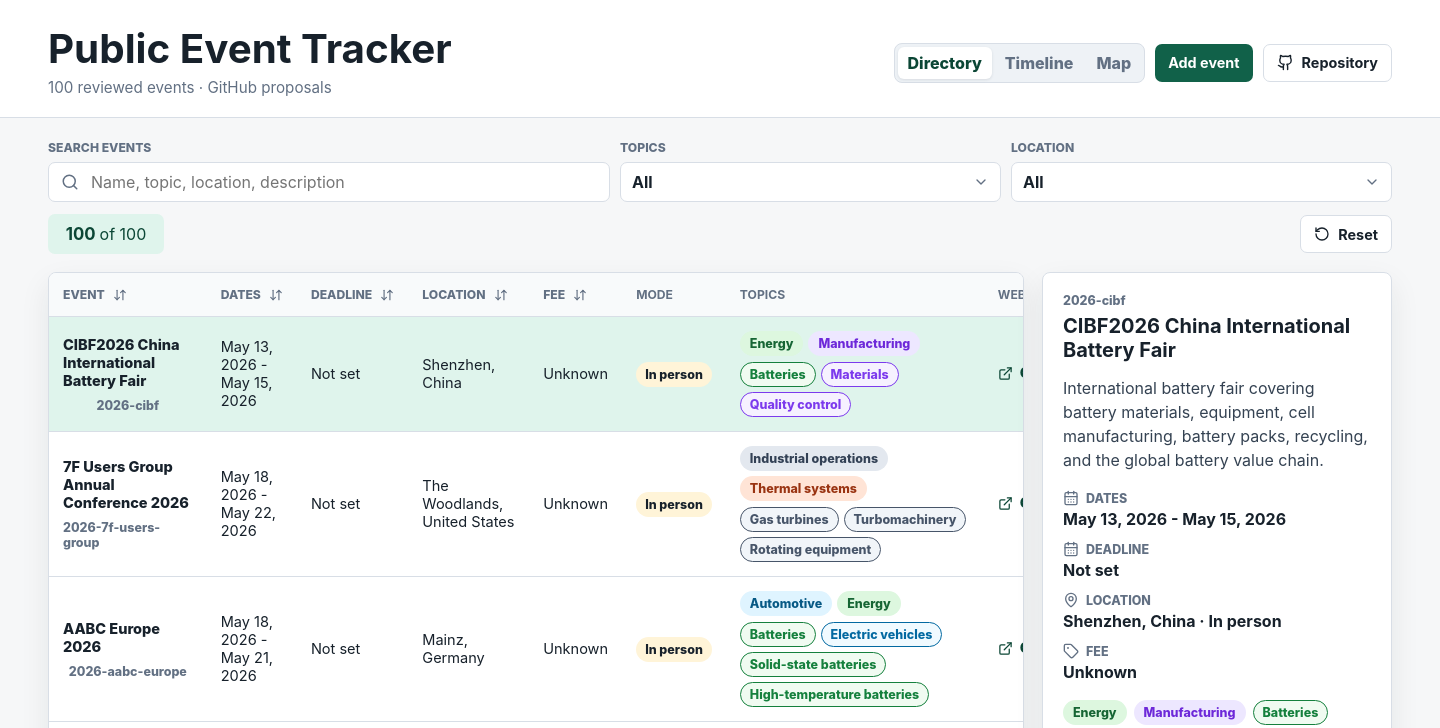
Test: event tracker app › shows an empty map state when filtered events are not mappable
Type "Medical Robotics Workshop" into the search field labelled "Search events" at (329, 182), box [48,162,610,202]
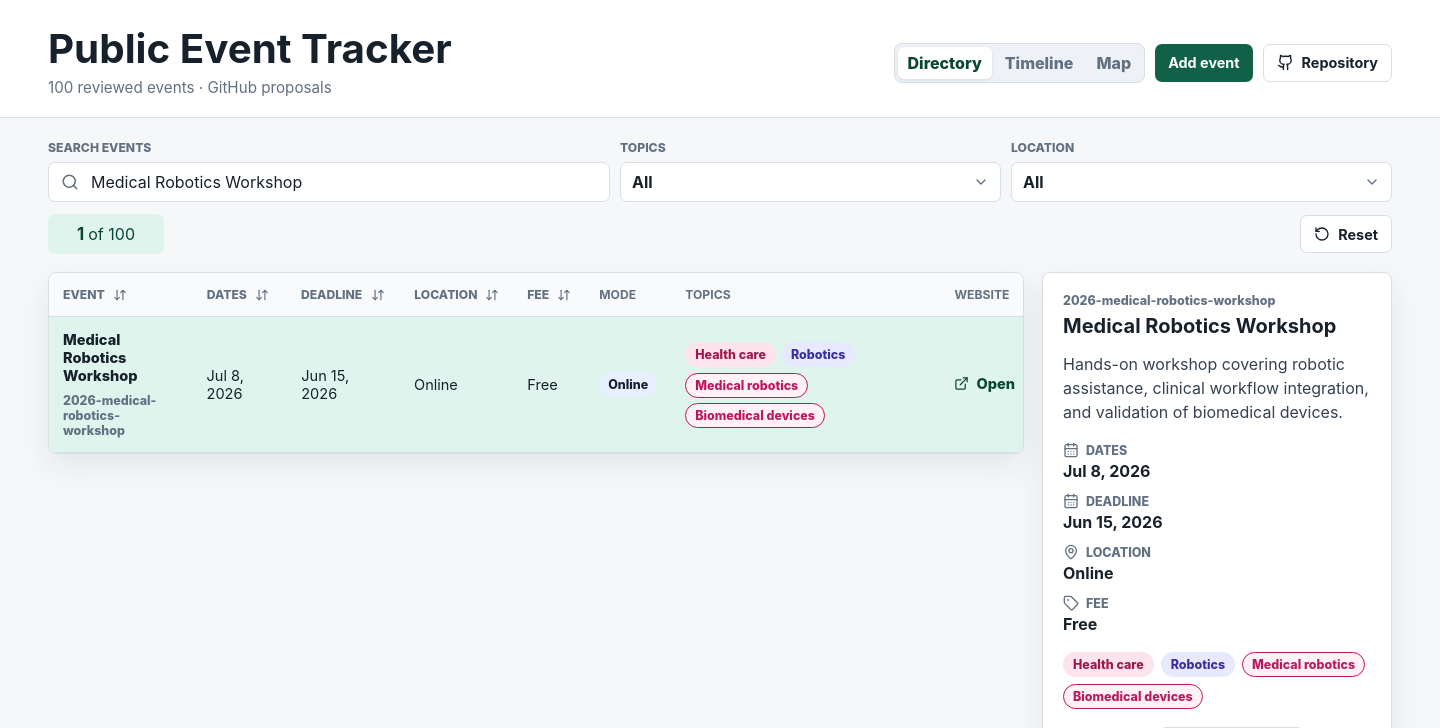
Click the button "Map" at (1114, 63), box [1086,47,1141,79]
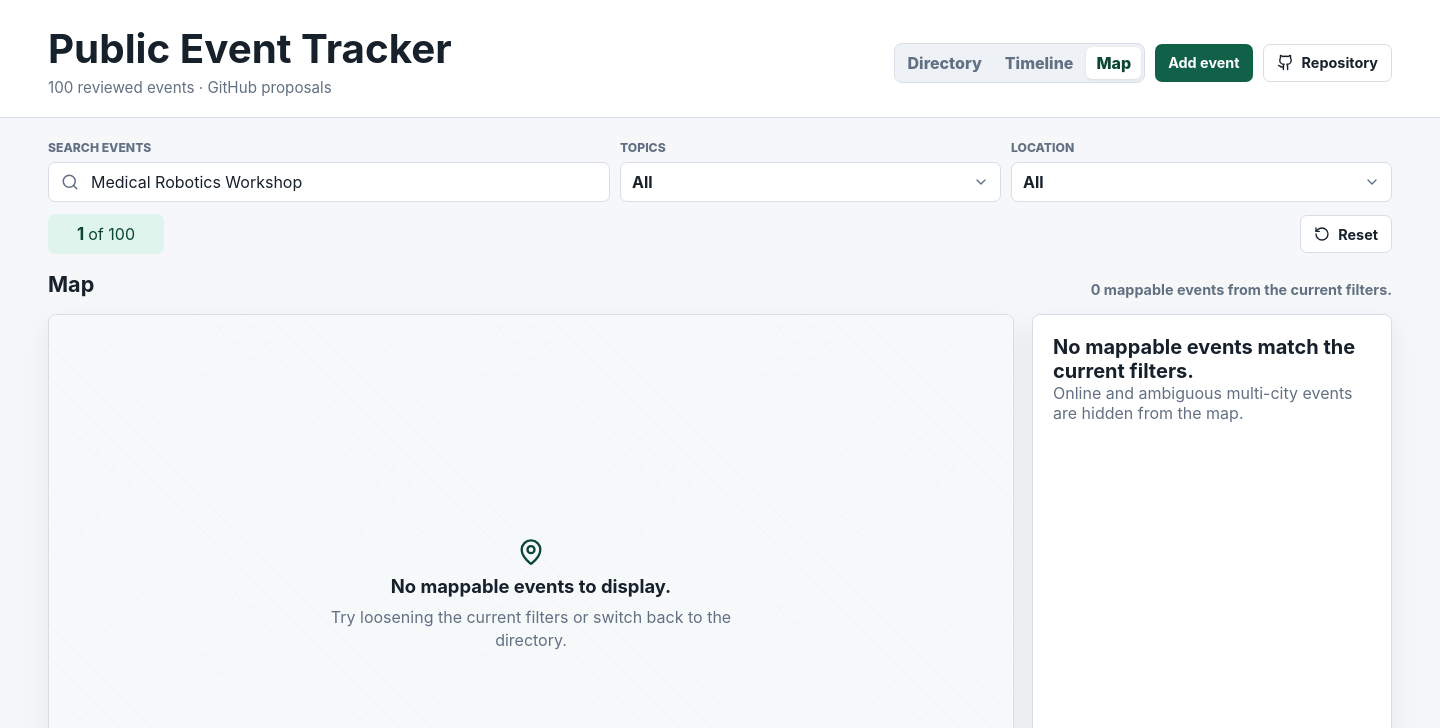
Expected: the heading "Map" is shown, [48,272,94,298]
Expected: the heading "No mappable events match the current filters." is shown, [1053,335,1371,383]
Expected: the text "Online and ambiguous multi-city events are hidden from the map." is shown, [1053,383,1371,423]
